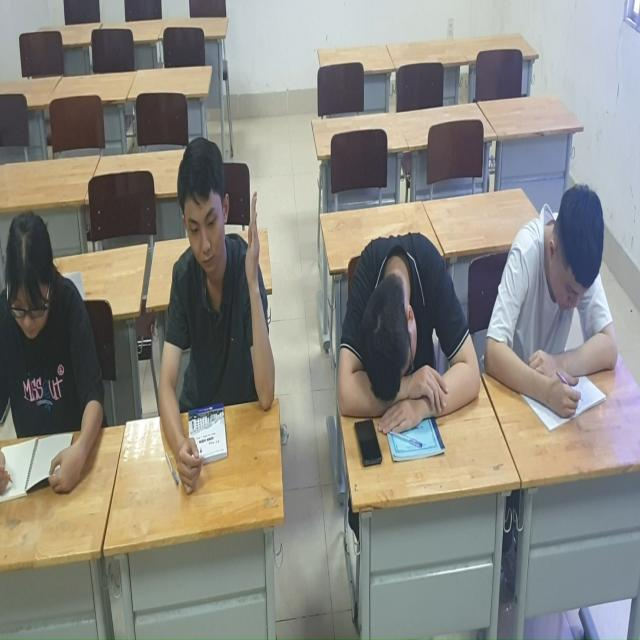raise_hand: (157, 128, 280, 488)
read: (490, 171, 625, 433), (1, 175, 109, 498)
sleep: (335, 228, 486, 434)
